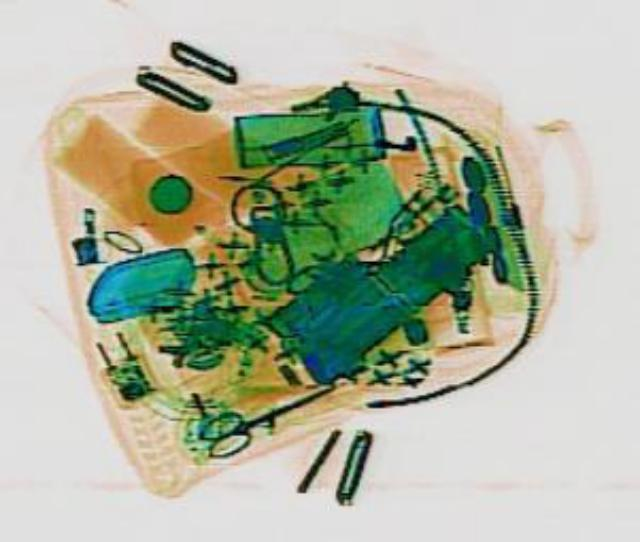Scissors: (185, 366, 343, 457)
